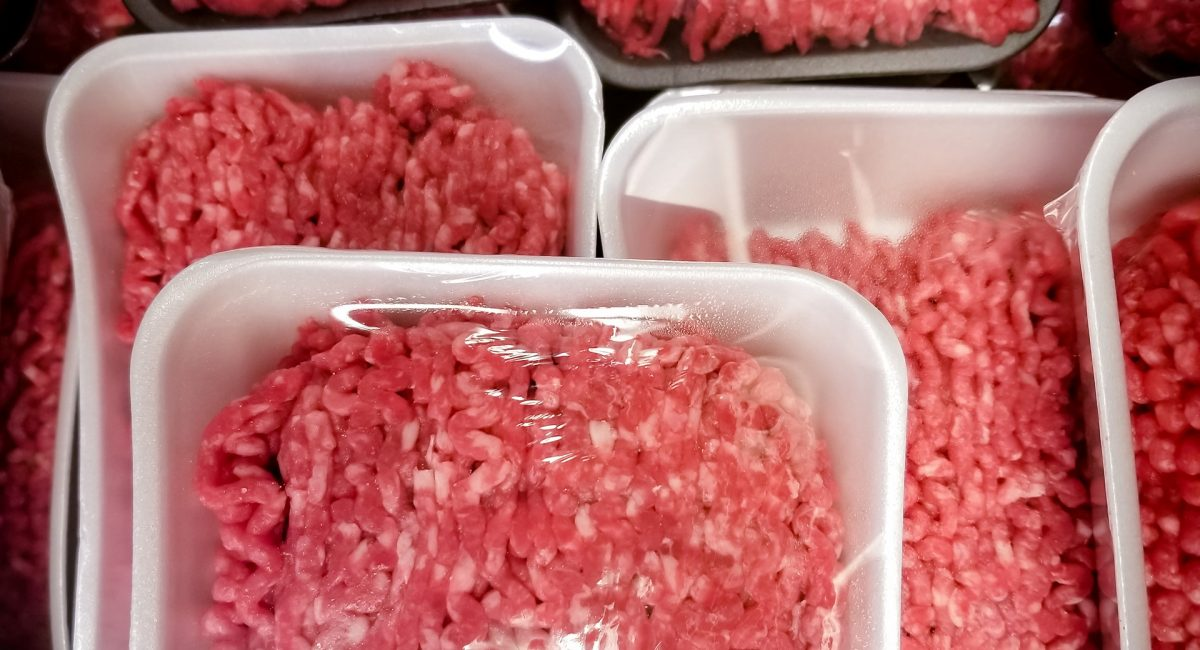ground_beef: (255, 304, 789, 650), (861, 174, 1115, 650), (141, 81, 555, 259), (702, 174, 1010, 351)
